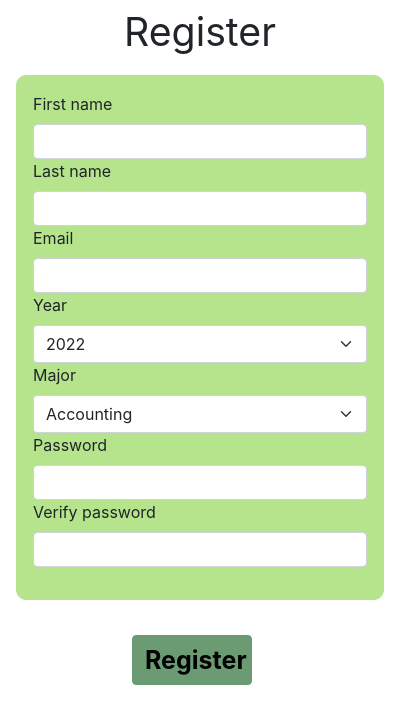
Test case: Registration Alerts › short password alert
This screenshot has width=401, height=704.
In the field with test id "firstname-input": point(200, 142) [33, 124, 367, 159], type "Jake"
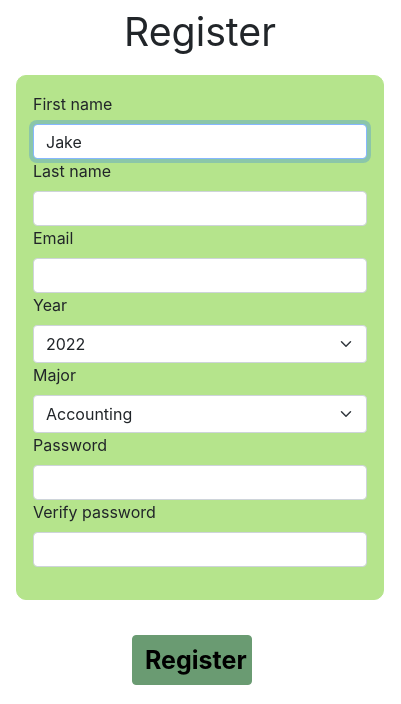
In the field with test id "lastname-input": point(200, 209) [33, 191, 367, 226], type "Doh"
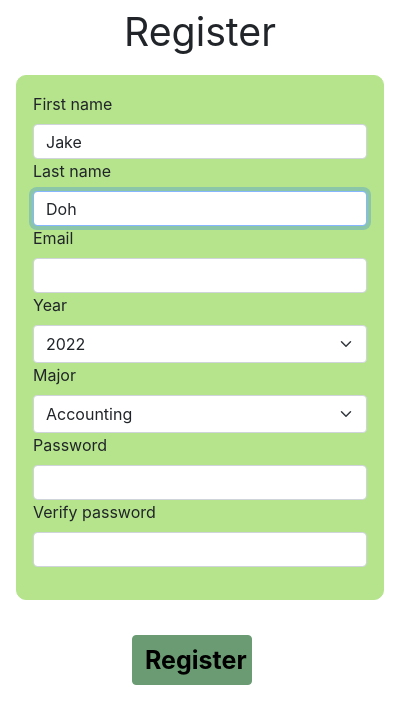
In the field with test id "email-input": point(200, 276) [33, 258, 367, 293], type "nuts@gmail.com"
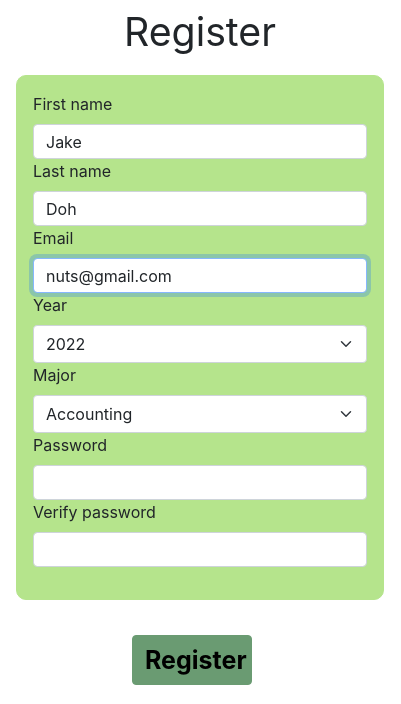
In the password field with test id "password-input": point(200, 483) [33, 465, 367, 500], type "abc"
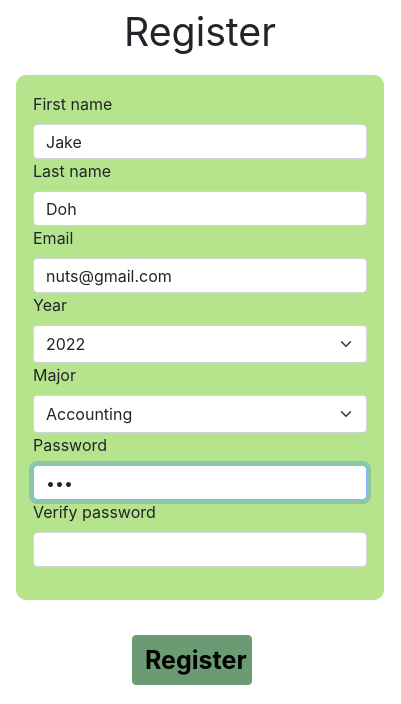
In the password field with test id "verpassword-input": point(200, 550) [33, 532, 367, 567], type "abc"
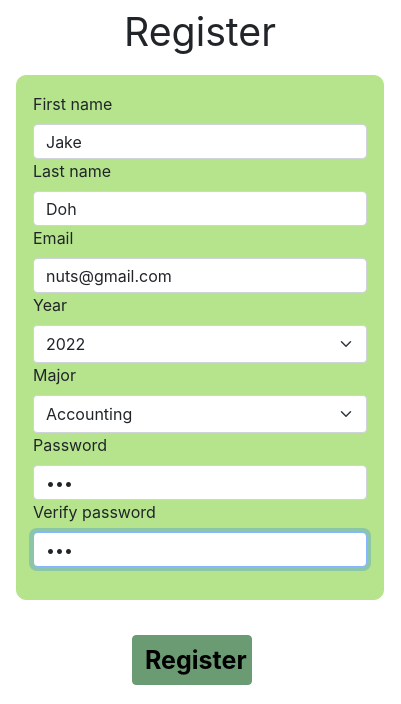
Click the button "Register": point(192, 660) [132, 635, 252, 685]
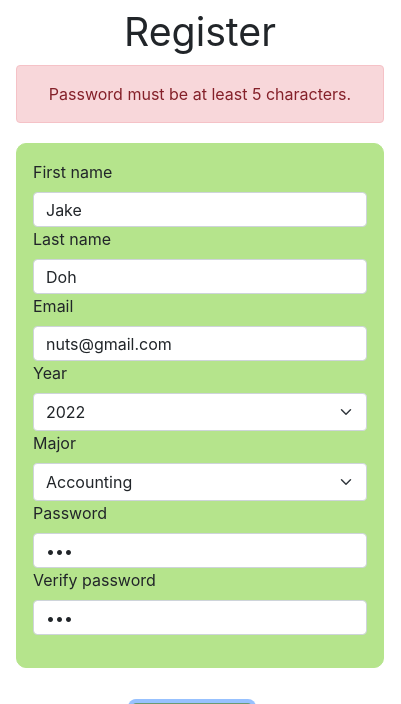
Now the text "Password must be at least 5 characters." is shown, box [16, 65, 384, 123]
